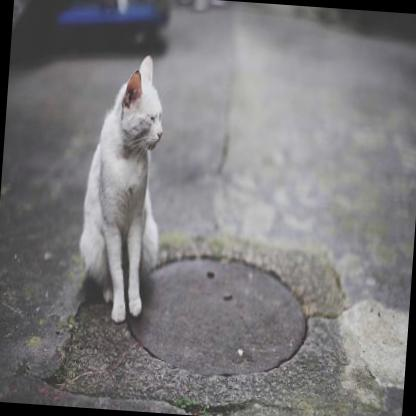manholes: (101, 214, 334, 406)
